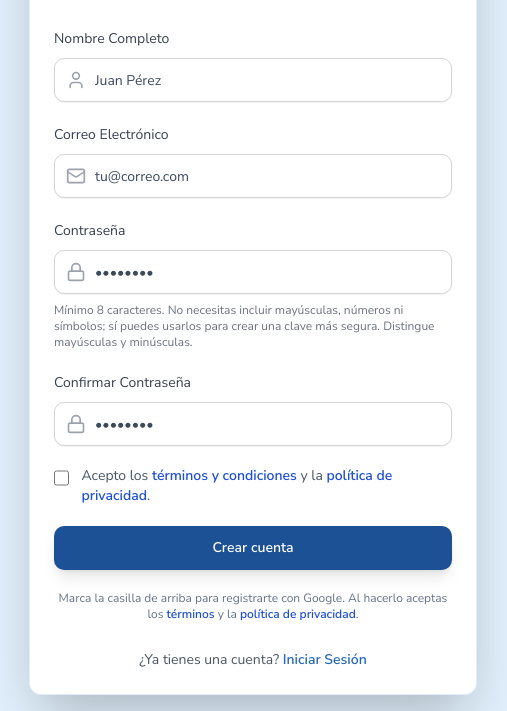
Test case: Signup page module › validates required fields and email format
The width and height of the screenshot is (507, 711).
(page scrolled)
Click the button "Crear cuenta" at (253, 548), box [54,526,452,570]
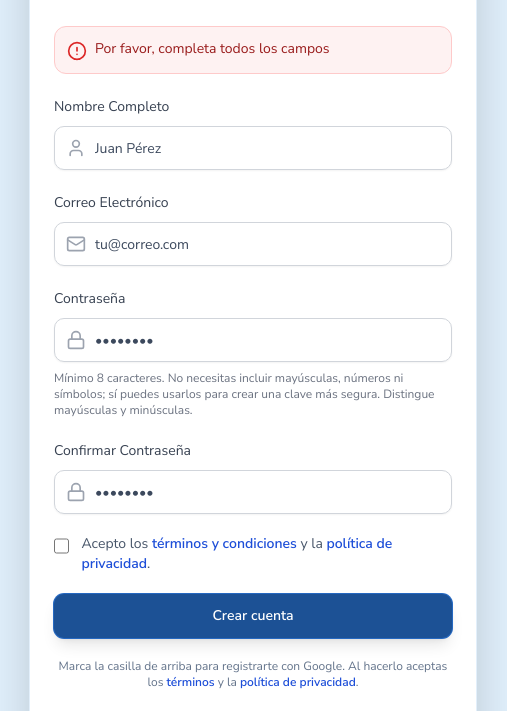
expect the text "Por favor, completa todos los campos" is shown: met, box [95,39,330,59]
Type "Test User" into the field labelled "Nombre Completo" at (253, 148), box [54,126,452,170]
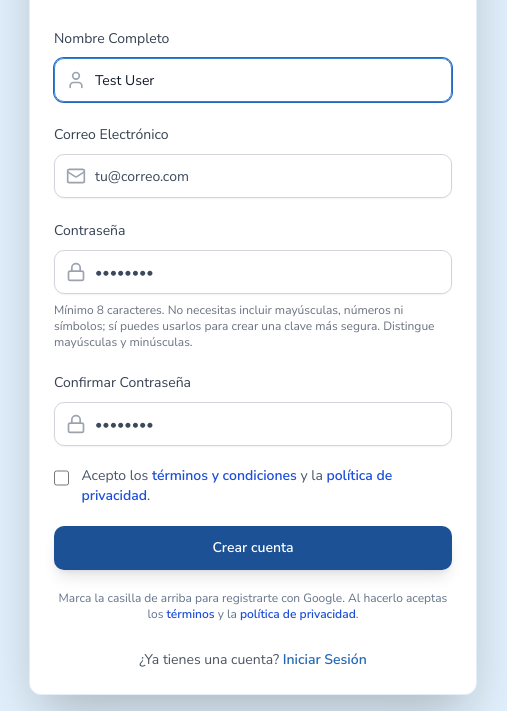
Type "admin@" into the field labelled "Correo Electrónico" at (253, 176), box [54,154,452,198]
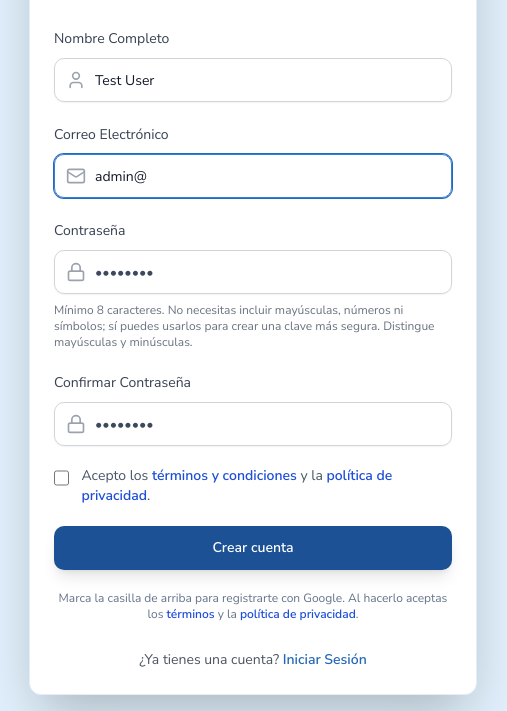
Type "12345678" into the password field labelled "Contraseña" at (253, 272), box [54,250,452,294]
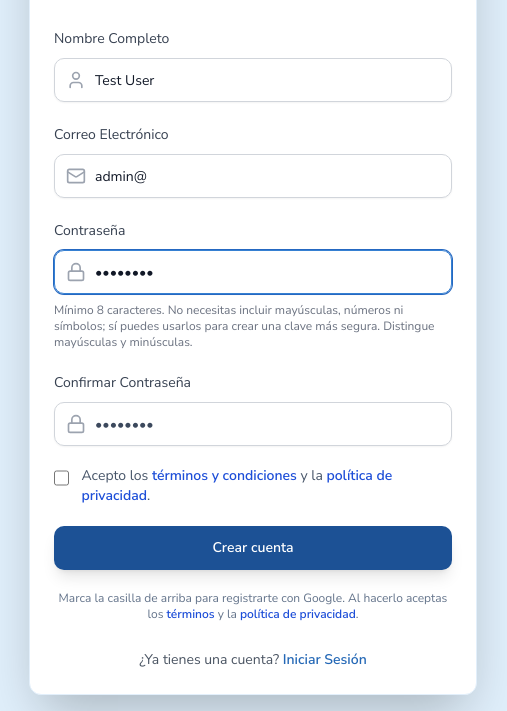
Type "12345678" into the password field labelled "Confirmar Contraseña" at (253, 424), box [54,402,452,446]
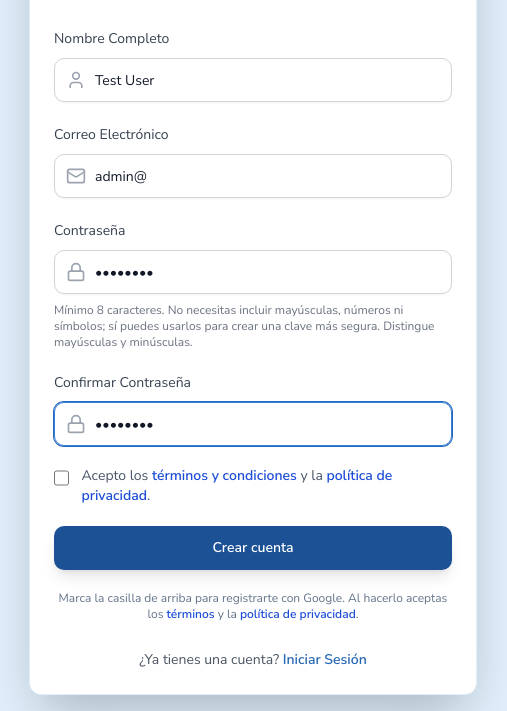
Click the button "Crear cuenta" at (253, 548), box [54,526,452,570]
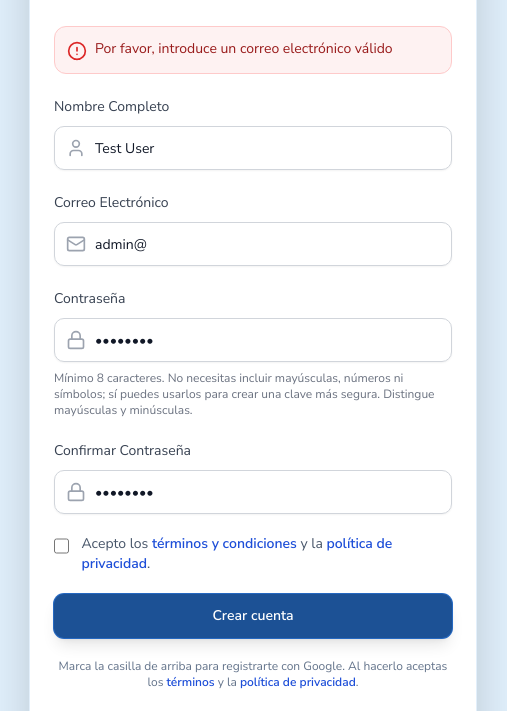
expect the text "Por favor, introduce un correo electrónico válido" is shown: met, box [95,39,393,59]
